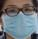with_mask: (1, 1, 38, 39)
